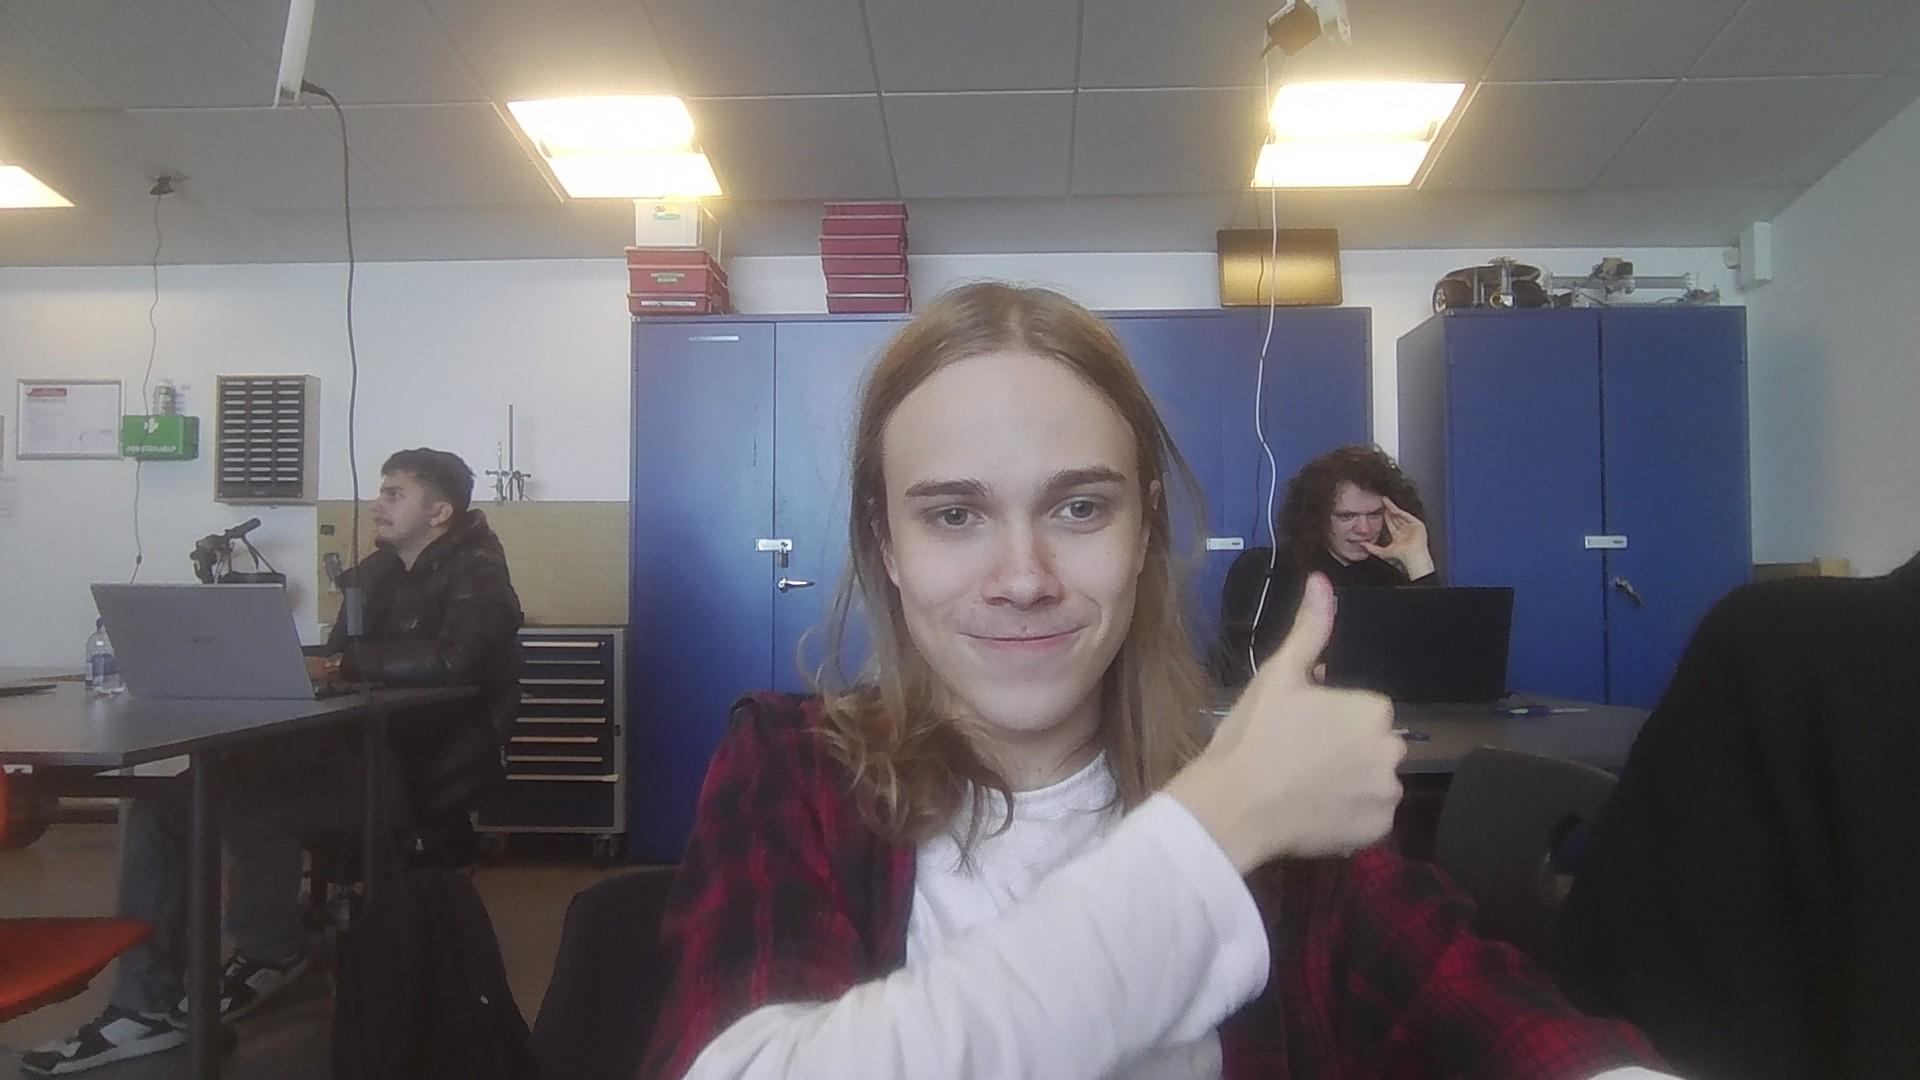thumbs up: (1220, 571, 1412, 856)
